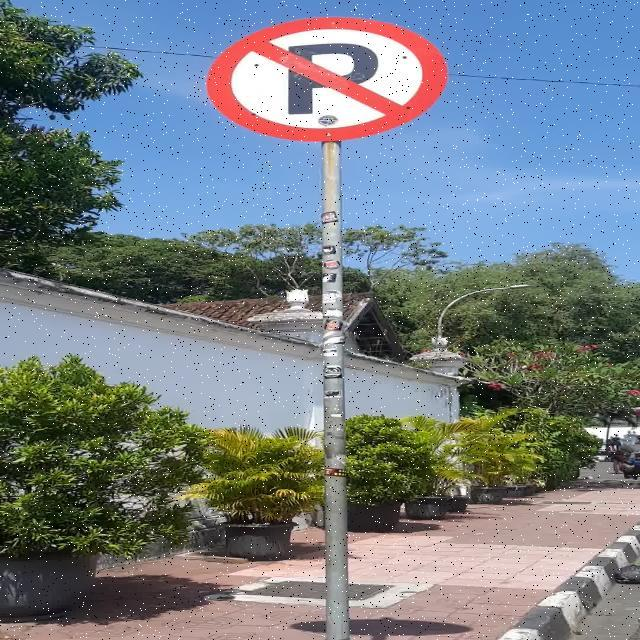Dilarang Parkir: (206, 17, 448, 142)
